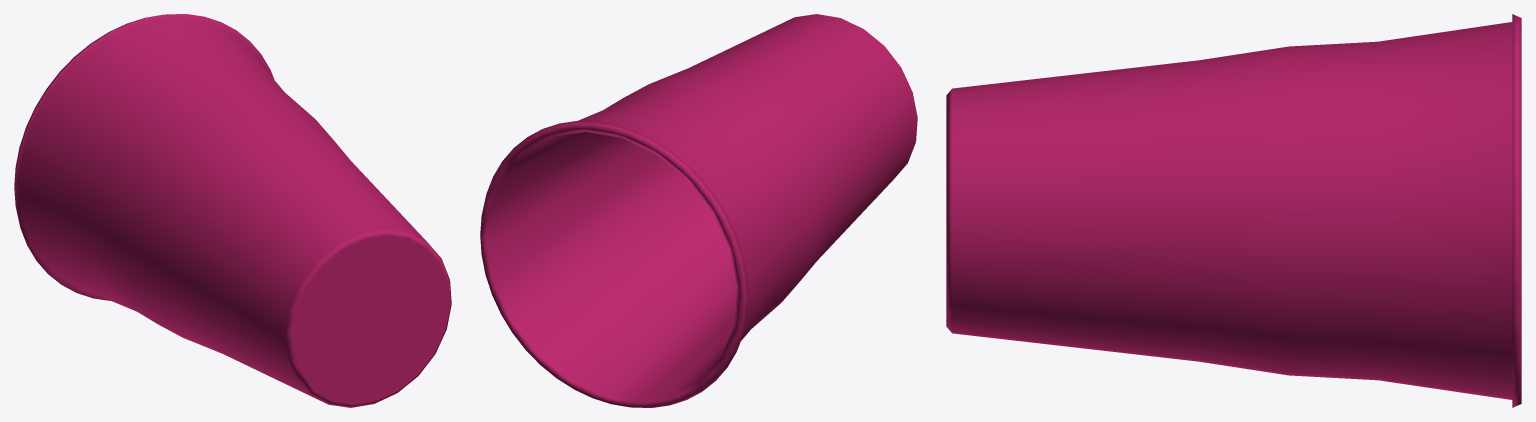
Rendered from SM_Dishes_21.fbx.
3 views of the same model, side by side, from view 1: azimuth 30°, elevation 25°; view 2: azimuth 150°, elevation 25°; view 3: azimuth 270°, elevation 25° (orthographic). The views are drawn at different scales.
Visible parts, largest first — view 1: SM_Dishes_21; view 2: SM_Dishes_21; view 3: SM_Dishes_21.
Boxes of the visible parts, bbox=[...] form: SM_Dishes_21: bbox=[14, 14, 451, 407]; SM_Dishes_21: bbox=[480, 14, 917, 407]; SM_Dishes_21: bbox=[946, 14, 1521, 407].
Size of the model in its own units: 8.38 by 8.38 by 12.24.
